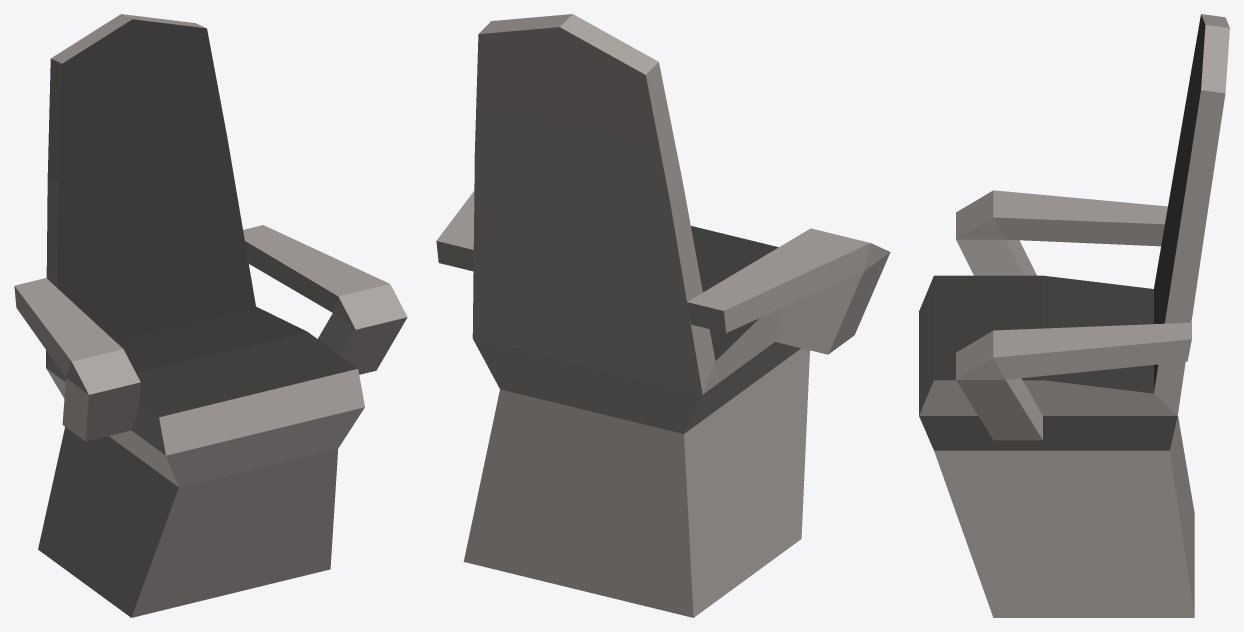
Rendered from scifi-chair.glb.
The picture shows the model from 3 angles, left to right: view 1: azimuth 30°, elevation 25°; view 2: azimuth 150°, elevation 25°; view 3: azimuth 270°, elevation 25°; orthographic projection. The views are drawn at different scales.
Visible parts, largest first — view 1: scifi-chair; view 2: scifi-chair; view 3: scifi-chair.
Boxes of the visible parts, left/top/right/bottom form: scifi-chair: left=14, top=14, right=407, bottom=617; scifi-chair: left=436, top=14, right=890, bottom=617; scifi-chair: left=919, top=14, right=1229, bottom=617.
Bounding box in the file's own units: 0.7998 × 1.2 × 0.6278.
1 material, 1 textured.
